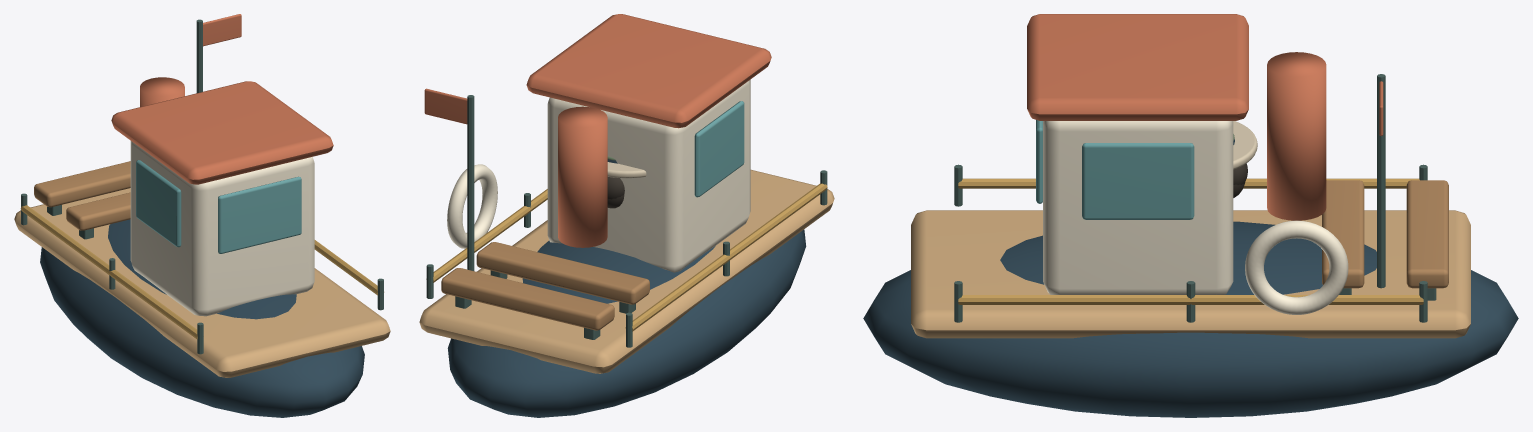
File: characters.glb
3 views of the same model, side by side, from view 1: azimuth 30°, elevation 25°; view 2: azimuth 150°, elevation 25°; view 3: azimuth 270°, elevation 25° (orthographic). The views are drawn at different scales.
Parts seen in each view (by area): view 1: ferry_hull, ferry_deck, ferry_cabin, ferry_cabin_roof, ferry_front_window, ferry_side_window, ferry_passenger_bench.001, ferry_rail, ferry_passenger_bench, ferry_funnel, Ferry_small_flag, ferry_rail.001 (+1 smaller); view 2: ferry_hull, ferry_cabin, ferry_deck, ferry_cabin_roof, ferry_funnel, ferry_passenger_bench, ferry_passenger_bench.001, ferry_side_window, ferry_lifebuoy, ferry_rail, Ferry_flag_mast, ferry_rail.001 (+2 smaller); view 3: ferry_hull, ferry_deck, ferry_cabin, ferry_cabin_roof, ferry_funnel, ferry_side_window.001, ferry_lifebuoy, ferry_passenger_bench.001, ferry_rail.001, ferry_passenger_bench, Ferry_flag_mast, ferry_rail (+1 smaller).
Part boxes in pixels (left/top/right/bottom): ferry_hull: left=40, top=219, right=364, bottom=417; ferry_deck: left=14, top=188, right=390, bottom=377; ferry_cabin: left=130, top=141, right=314, bottom=316; ferry_cabin_roof: left=111, top=81, right=333, bottom=184; ferry_front_window: left=218, top=176, right=301, bottom=253; ferry_side_window: left=136, top=160, right=181, bottom=247; ferry_passenger_bench.001: left=34, top=161, right=130, bottom=207; ferry_rail: left=20, top=205, right=197, bottom=339; ferry_passenger_bench: left=66, top=192, right=130, bottom=230; ferry_funnel: left=140, top=77, right=184, bottom=106; Ferry_small_flag: left=203, top=14, right=241, bottom=46; ferry_rail.001: left=314, top=240, right=384, bottom=295; ferry_hull: left=447, top=229, right=806, bottom=417; ferry_cabin: left=547, top=79, right=750, bottom=272; ferry_deck: left=419, top=169, right=834, bottom=373; ferry_cabin_roof: left=526, top=14, right=771, bottom=128; ferry_funnel: left=558, top=106, right=607, bottom=247; ferry_passenger_bench: left=476, top=242, right=649, bottom=304; ferry_passenger_bench.001: left=441, top=268, right=614, bottom=330; ferry_side_window: left=694, top=101, right=744, bottom=197; ferry_lifebuoy: left=447, top=164, right=497, bottom=248; ferry_rail: left=625, top=183, right=827, bottom=331; Ferry_flag_mast: left=467, top=95, right=474, bottom=270; ferry_rail.001: left=426, top=189, right=547, bottom=282; ferry_hull: left=863, top=221, right=1518, bottom=417; ferry_deck: left=911, top=210, right=1470, bottom=338; ferry_cabin: left=1043, top=121, right=1233, bottom=294; ferry_cabin_roof: left=1027, top=14, right=1248, bottom=120; ferry_funnel: left=1267, top=52, right=1326, bottom=220; ferry_side_window.001: left=1082, top=143, right=1194, bottom=219; ferry_lifebuoy: left=1245, top=220, right=1348, bottom=314; ferry_passenger_bench.001: left=1406, top=180, right=1448, bottom=288; ferry_rail.001: left=958, top=295, right=1423, bottom=304; ferry_passenger_bench: left=1322, top=180, right=1364, bottom=288; Ferry_flag_mast: left=1377, top=74, right=1385, bottom=288; ferry_rail: left=958, top=178, right=1419, bottom=188.
Bounding box in the file's own units: 1.56 × 1.89 × 3.1.
